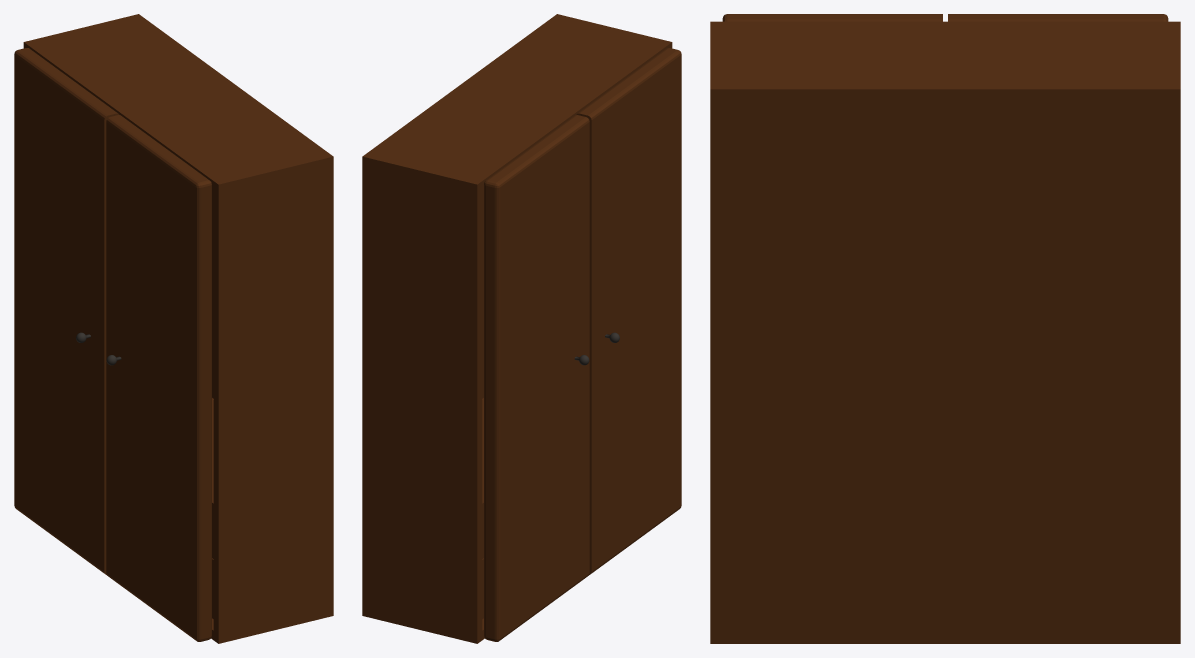
Rendered from armario1.fbx.
3 renders of one model, left to right at view 1: azimuth 30°, elevation 25°; view 2: azimuth 150°, elevation 25°; view 3: azimuth 270°, elevation 25°, orthographic. The views are drawn at different scales.
Parts seen in each view (by area): view 1: Estructura, Puerta1, Puerta2; view 2: Estructura, Puerta2, Puerta1; view 3: Estructura, Puerta1, Puerta2.
Part boxes in pixels (<box>): Estructura: <box>23,14,333,643</box>; Puerta1: <box>106,115,211,641</box>; Puerta2: <box>14,48,119,574</box>; Estructura: <box>362,14,672,643</box>; Puerta2: <box>484,115,589,641</box>; Puerta1: <box>576,48,681,574</box>; Estructura: <box>710,21,1180,643</box>; Puerta1: <box>722,14,942,21</box>; Puerta2: <box>948,14,1168,21</box>.
Size of the model in its own units: 65.74 by 200 by 154.
